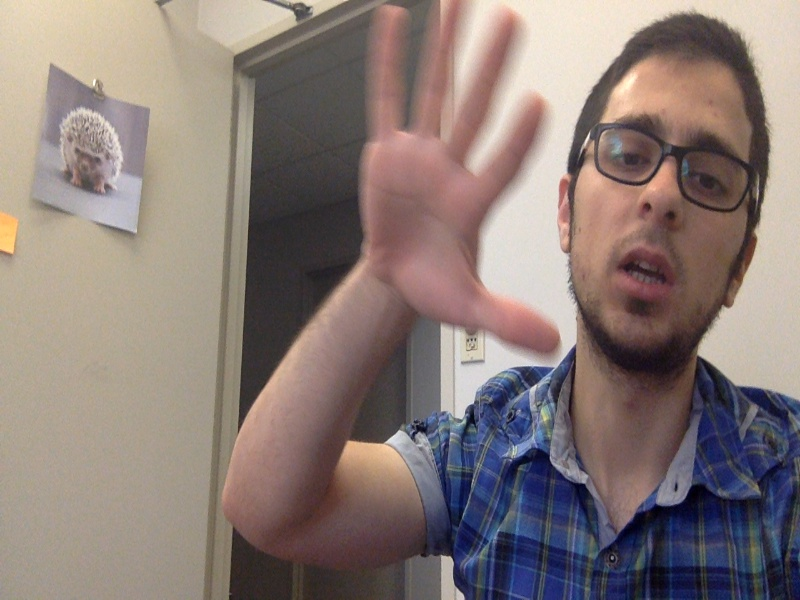5-hand: (365, 5, 562, 357)
